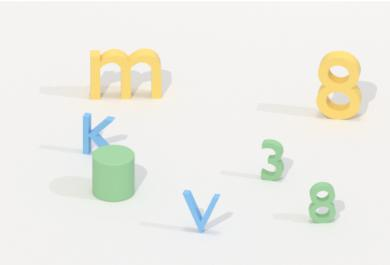0-KhoiTru: (90, 142, 139, 205)
3: (258, 134, 289, 185)
8: (315, 47, 364, 123), (306, 176, 339, 227)
K: (79, 109, 117, 158)
V: (180, 184, 224, 238)
m: (85, 45, 164, 104)
